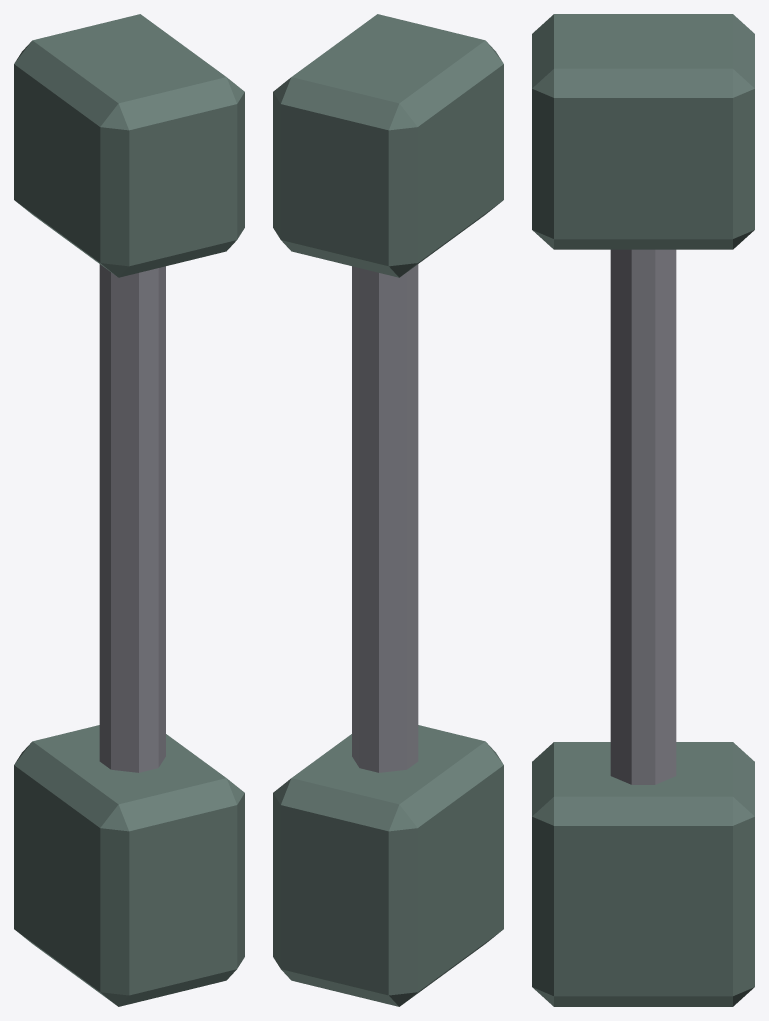
Rendered from barsEdgePiece.fbx.
3 renders of one model, left to right at view 1: azimuth 30°, elevation 25°; view 2: azimuth 150°, elevation 25°; view 3: azimuth 270°, elevation 25°, orthographic. The views are drawn at different scales.
Visible parts, largest first — view 1: barsEdgePiece; view 2: barsEdgePiece; view 3: barsEdgePiece.
Part boxes in pixels (x1=…): barsEdgePiece: x1=14, y1=14, x2=244, y2=1006; barsEdgePiece: x1=273, y1=14, x2=503, y2=1006; barsEdgePiece: x1=532, y1=14, x2=754, y2=1006.
Bounding box in the file's own units: 0.351 × 2.09 × 0.451.
